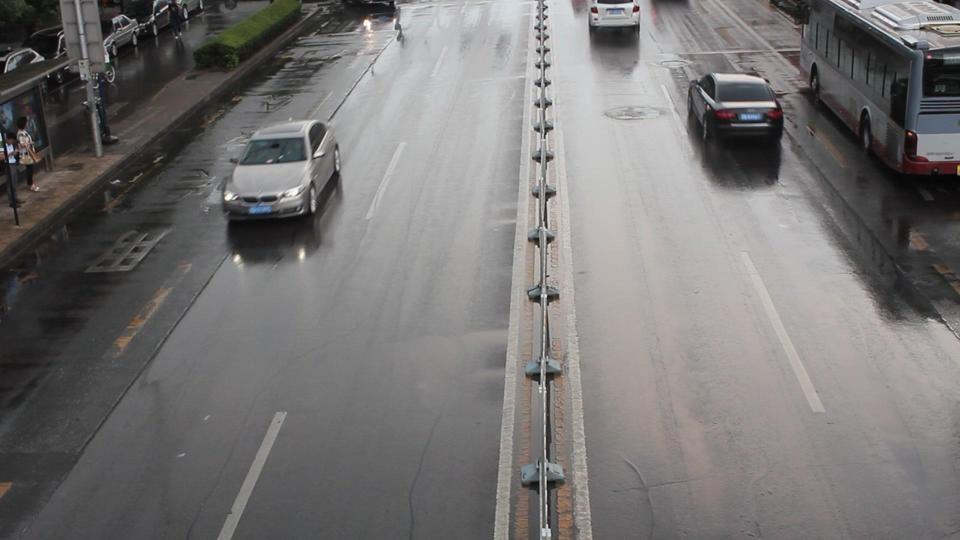car: (221, 119, 343, 220), (686, 72, 784, 145), (588, 0, 641, 34), (104, 13, 140, 51)
